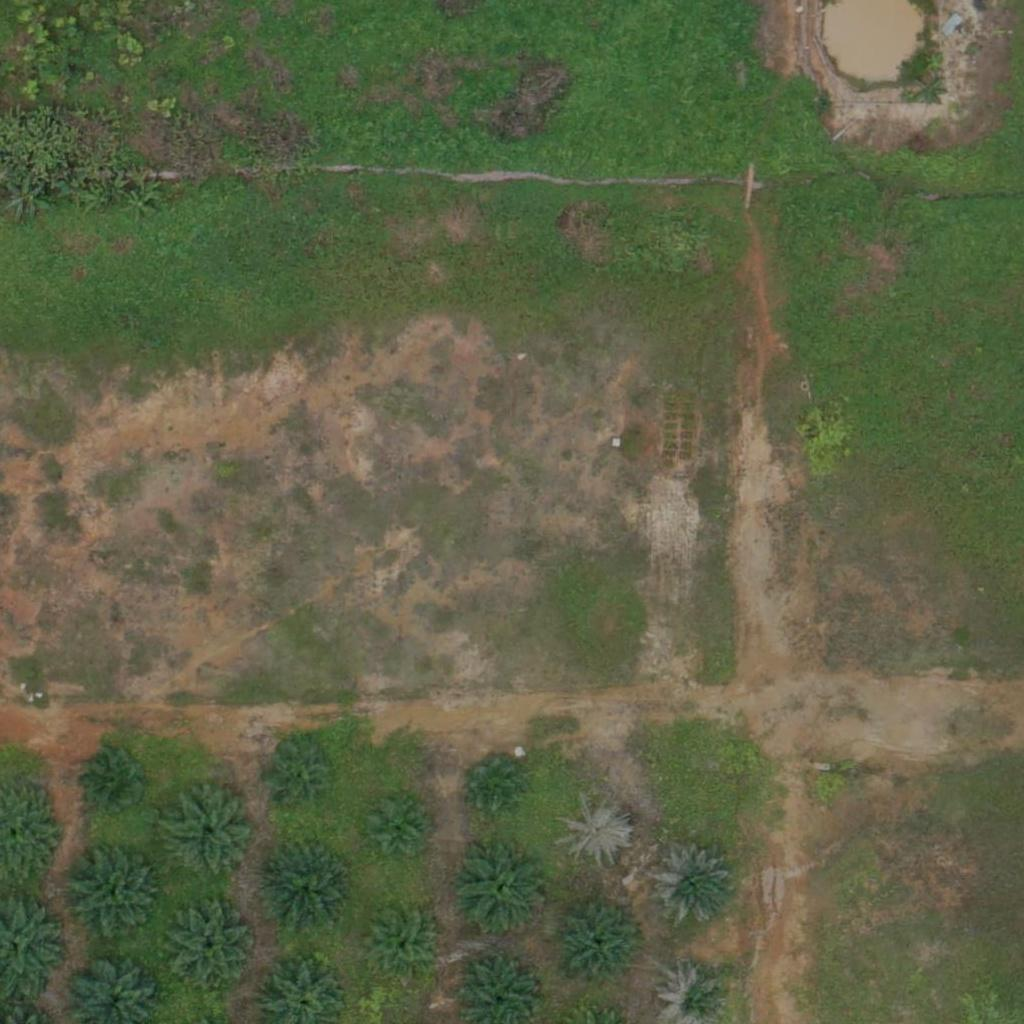Kelapa_Sawit: (63, 844, 163, 945), (160, 782, 260, 883), (452, 840, 552, 940), (551, 894, 651, 994), (168, 906, 256, 995), (262, 849, 350, 937), (647, 842, 735, 930), (558, 793, 633, 869), (364, 912, 439, 987), (269, 745, 332, 808), (366, 792, 429, 855), (86, 747, 149, 810), (462, 753, 524, 815)
